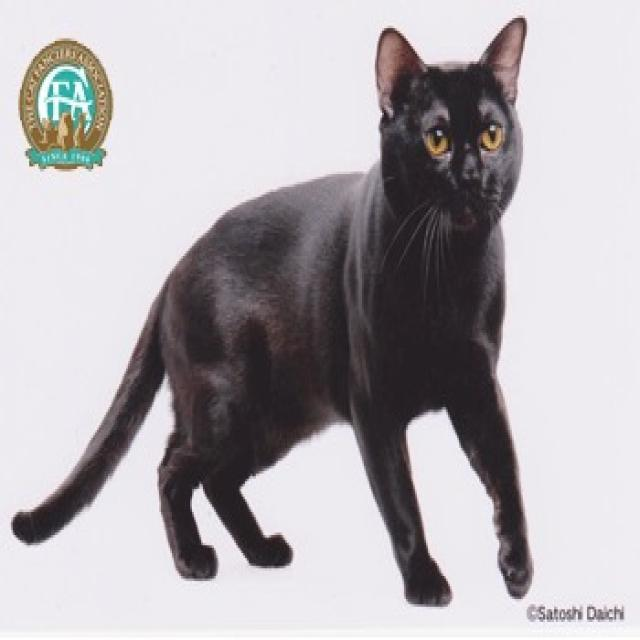Bombay: (368, 14, 538, 241)
